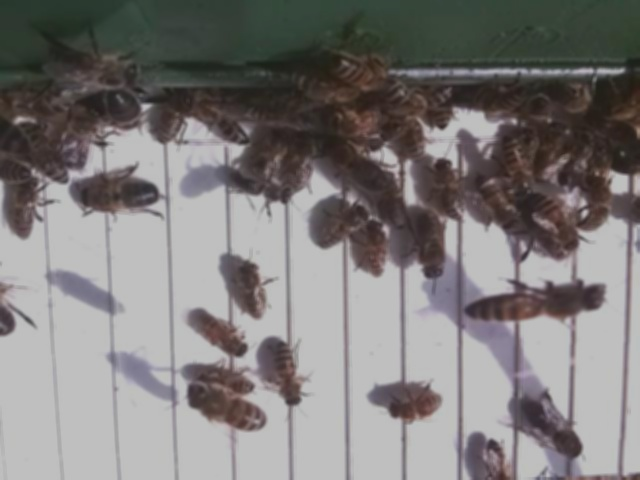Drone: (521, 395, 590, 463), (77, 177, 166, 216), (412, 207, 450, 284)
Worker: (466, 285, 609, 323), (189, 388, 270, 437), (533, 192, 582, 254), (474, 173, 520, 232), (228, 172, 296, 210), (434, 155, 468, 225), (376, 163, 409, 235), (316, 208, 366, 253), (273, 339, 304, 411), (10, 172, 40, 246), (500, 130, 534, 195), (581, 171, 615, 236), (196, 315, 247, 357), (388, 389, 448, 424), (235, 258, 267, 322), (365, 220, 390, 280)
